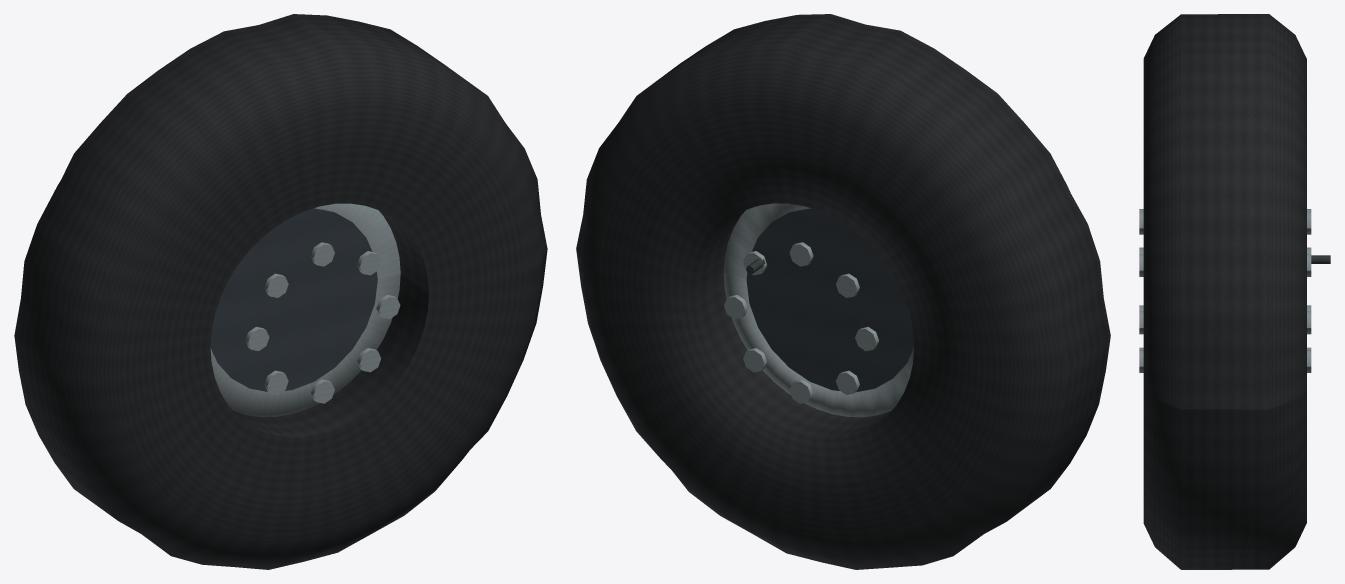
The model's file is PZ_IRONVALE_Truck_FrontWheel_PIVOT.glb.
3 views of the same model, side by side, from view 1: azimuth 30°, elevation 25°; view 2: azimuth 150°, elevation 25°; view 3: azimuth 270°, elevation 25° (orthographic).
Parts seen in each view (by area): view 1: TRUCK_FRONT_WHEEL_Rubber_Carcass, TRUCK_FRONT_WHEEL_Hub_Disc, TRUCK_FRONT_WHEEL_Rim_ChromeLip; view 2: TRUCK_FRONT_WHEEL_Rubber_Carcass, TRUCK_FRONT_WHEEL_Hub_Disc, TRUCK_FRONT_WHEEL_Rim_ChromeLip; view 3: TRUCK_FRONT_WHEEL_Rubber_Carcass.
Part boxes in pixels (left/top/right/bottom): TRUCK_FRONT_WHEEL_Rubber_Carcass: left=14, top=14, right=547, bottom=569; TRUCK_FRONT_WHEEL_Hub_Disc: left=210, top=208, right=377, bottom=391; TRUCK_FRONT_WHEEL_Rim_ChromeLip: left=210, top=203, right=400, bottom=416; TRUCK_FRONT_WHEEL_Rubber_Carcass: left=576, top=14, right=1110, bottom=569; TRUCK_FRONT_WHEEL_Hub_Disc: left=746, top=208, right=913, bottom=392; TRUCK_FRONT_WHEEL_Rim_ChromeLip: left=723, top=203, right=913, bottom=417; TRUCK_FRONT_WHEEL_Rubber_Carcass: left=1143, top=14, right=1306, bottom=569.
Size of the model in its own units: 1.1 by 1.09 by 0.3755.
Materials: 4 (4 with a texture image).
